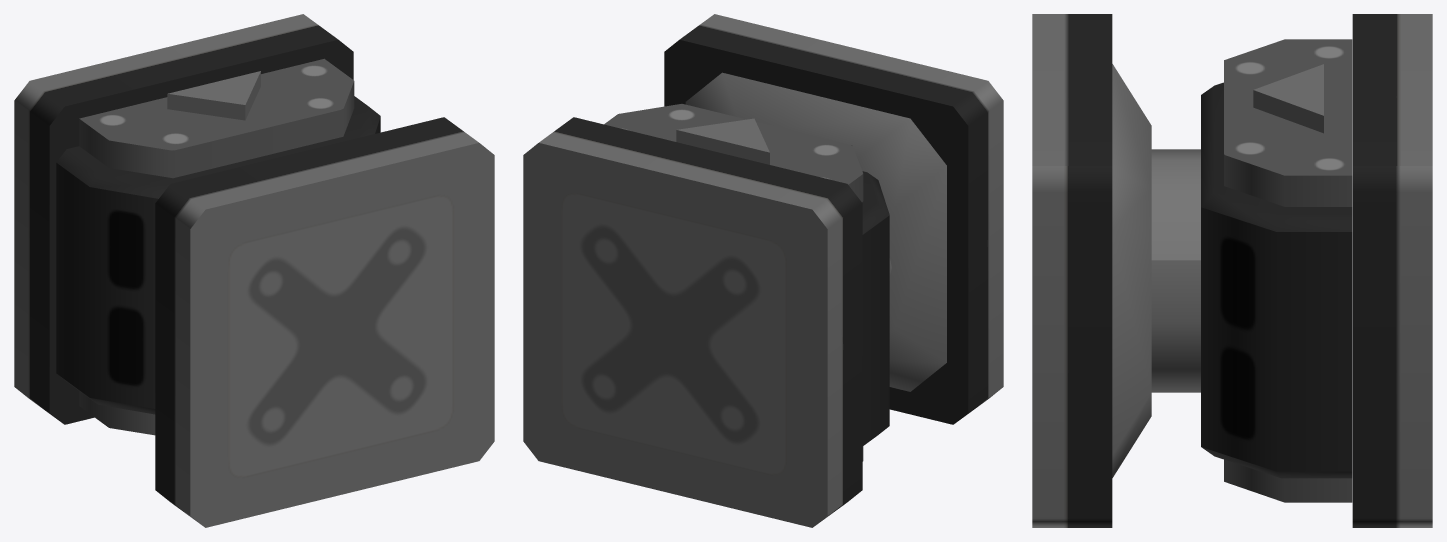
The model's file is obj_interactive_piston_01_off.fbx.
3 views of the same model, side by side, from view 1: azimuth 30°, elevation 25°; view 2: azimuth 150°, elevation 25°; view 3: azimuth 270°, elevation 25° (orthographic). The views are drawn at different scales.
Parts seen in each view (by area): view 1: obj_interactive_piston_01_off; view 2: obj_interactive_piston_01_off; view 3: obj_interactive_piston_01_off.
Part boxes in pixels (bbox=[...]): obj_interactive_piston_01_off: bbox=[14, 14, 494, 527]; obj_interactive_piston_01_off: bbox=[523, 14, 1003, 527]; obj_interactive_piston_01_off: bbox=[1032, 14, 1432, 527].
Size of the model in its own units: 1 by 1 by 1.
